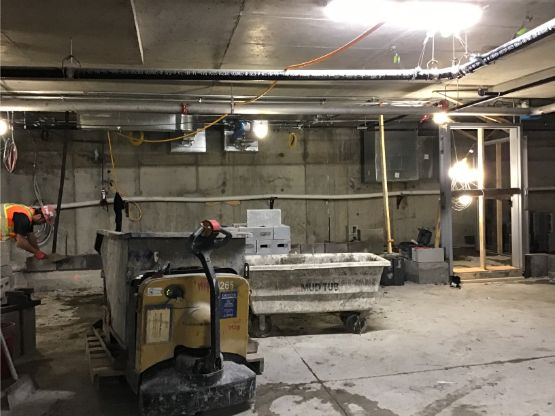Duct: (64, 103, 211, 157), (220, 111, 264, 158)
